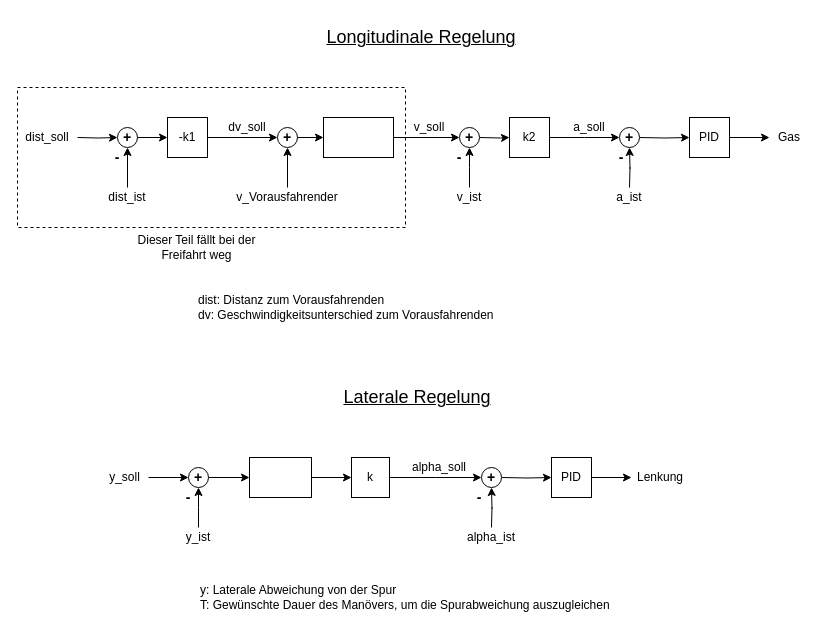
This 827x634 diagram has some shape labels left out. Each missing label, with the centre of its shape:
"1/(v_ist*T)" belongs at (280,477).
"begrenzen auf v_max" belongs at (358,137).
